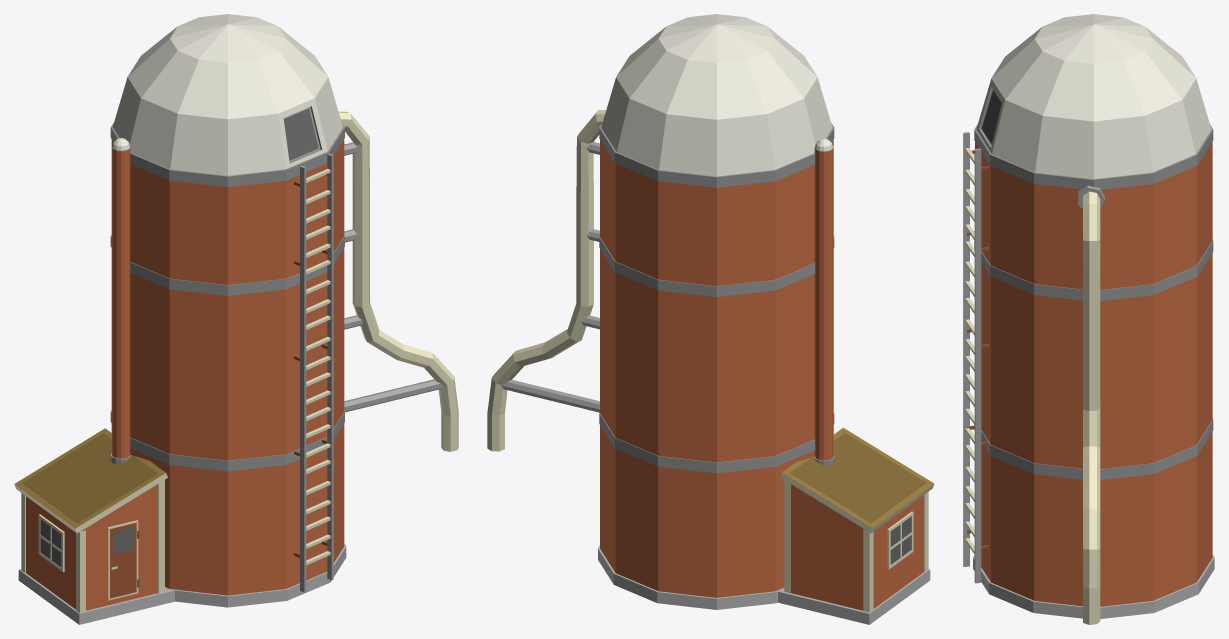
File: houses4.fbx
The picture shows the model from 3 angles, left to right: view 1: azimuth 30°, elevation 25°; view 2: azimuth 150°, elevation 25°; view 3: azimuth 270°, elevation 25°; orthographic projection. The views are drawn at different scales.
Visible parts, largest first — view 1: Cube_2; view 2: Cube_2; view 3: Cube_2.
Boxes of the visible parts, x1,y1,x2,y2 form: Cube_2: (14,14,458,624); Cube_2: (487,14,934,624); Cube_2: (963,14,1214,624).
Size of the model in its own units: 1214 by 1497 by 628.
